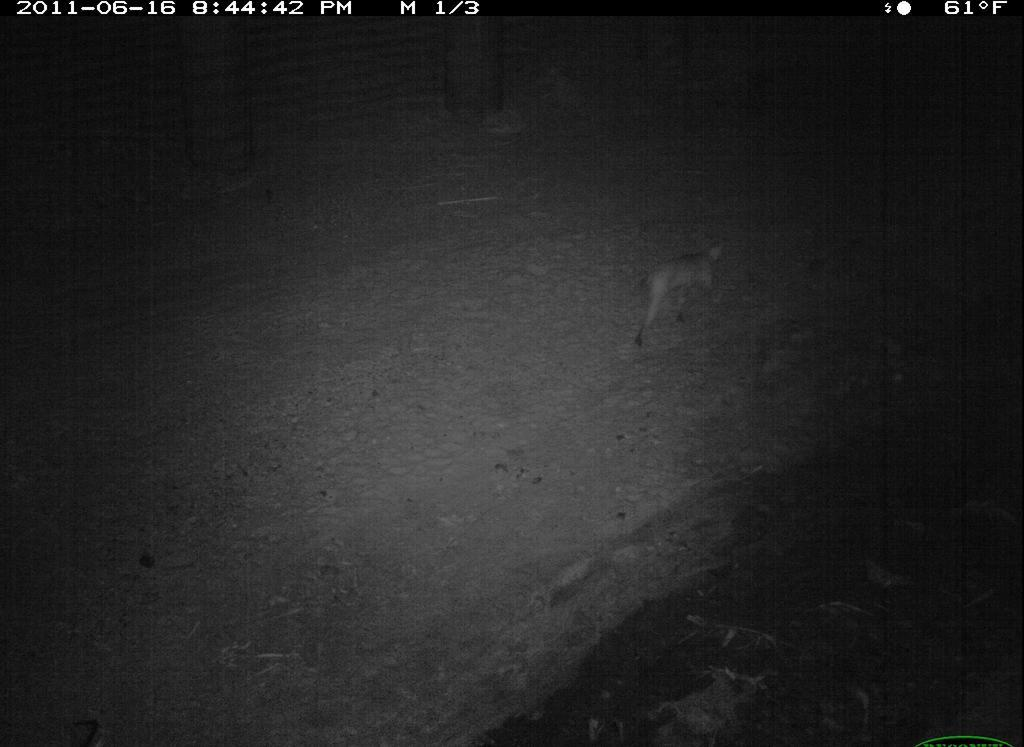bobcat: (621, 228, 746, 359)
